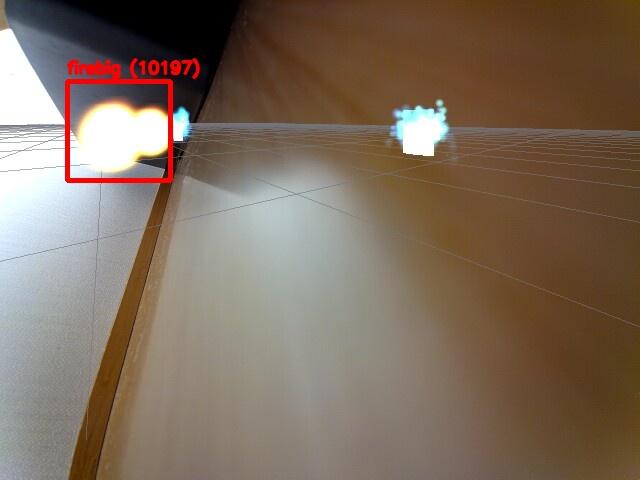firebig: (67, 81, 170, 180)
